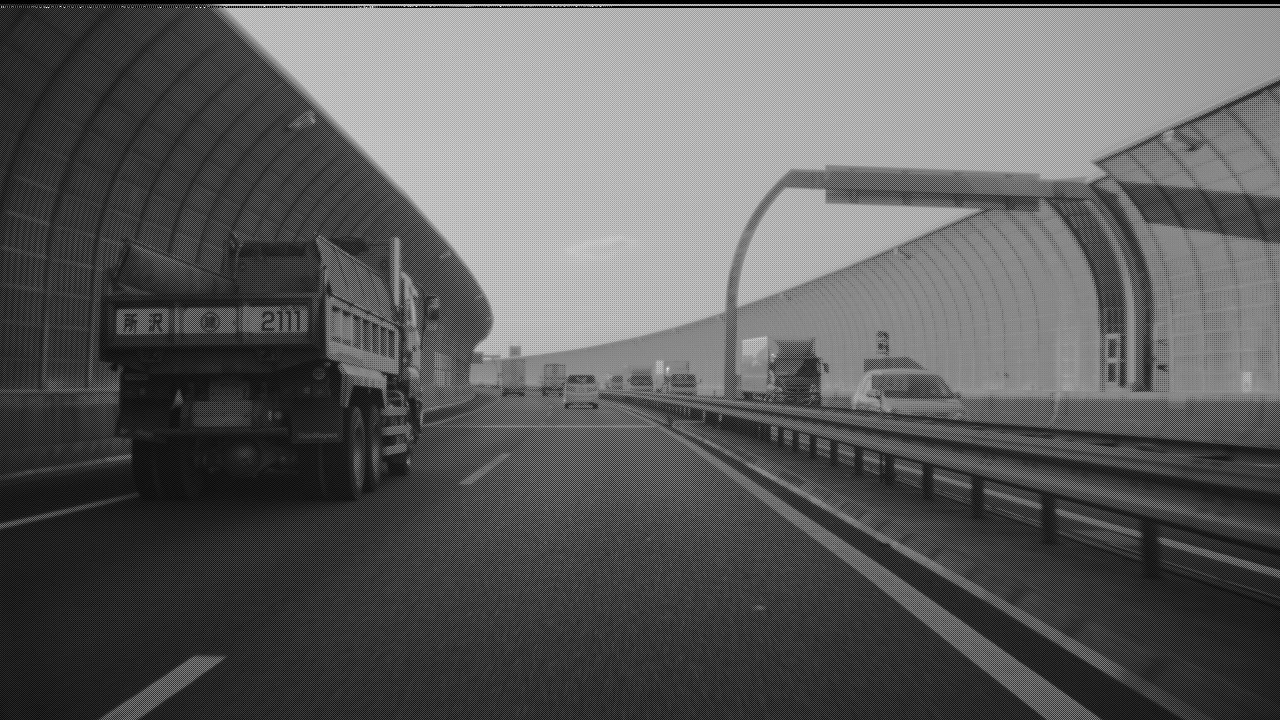pole: (722, 203, 754, 390)
